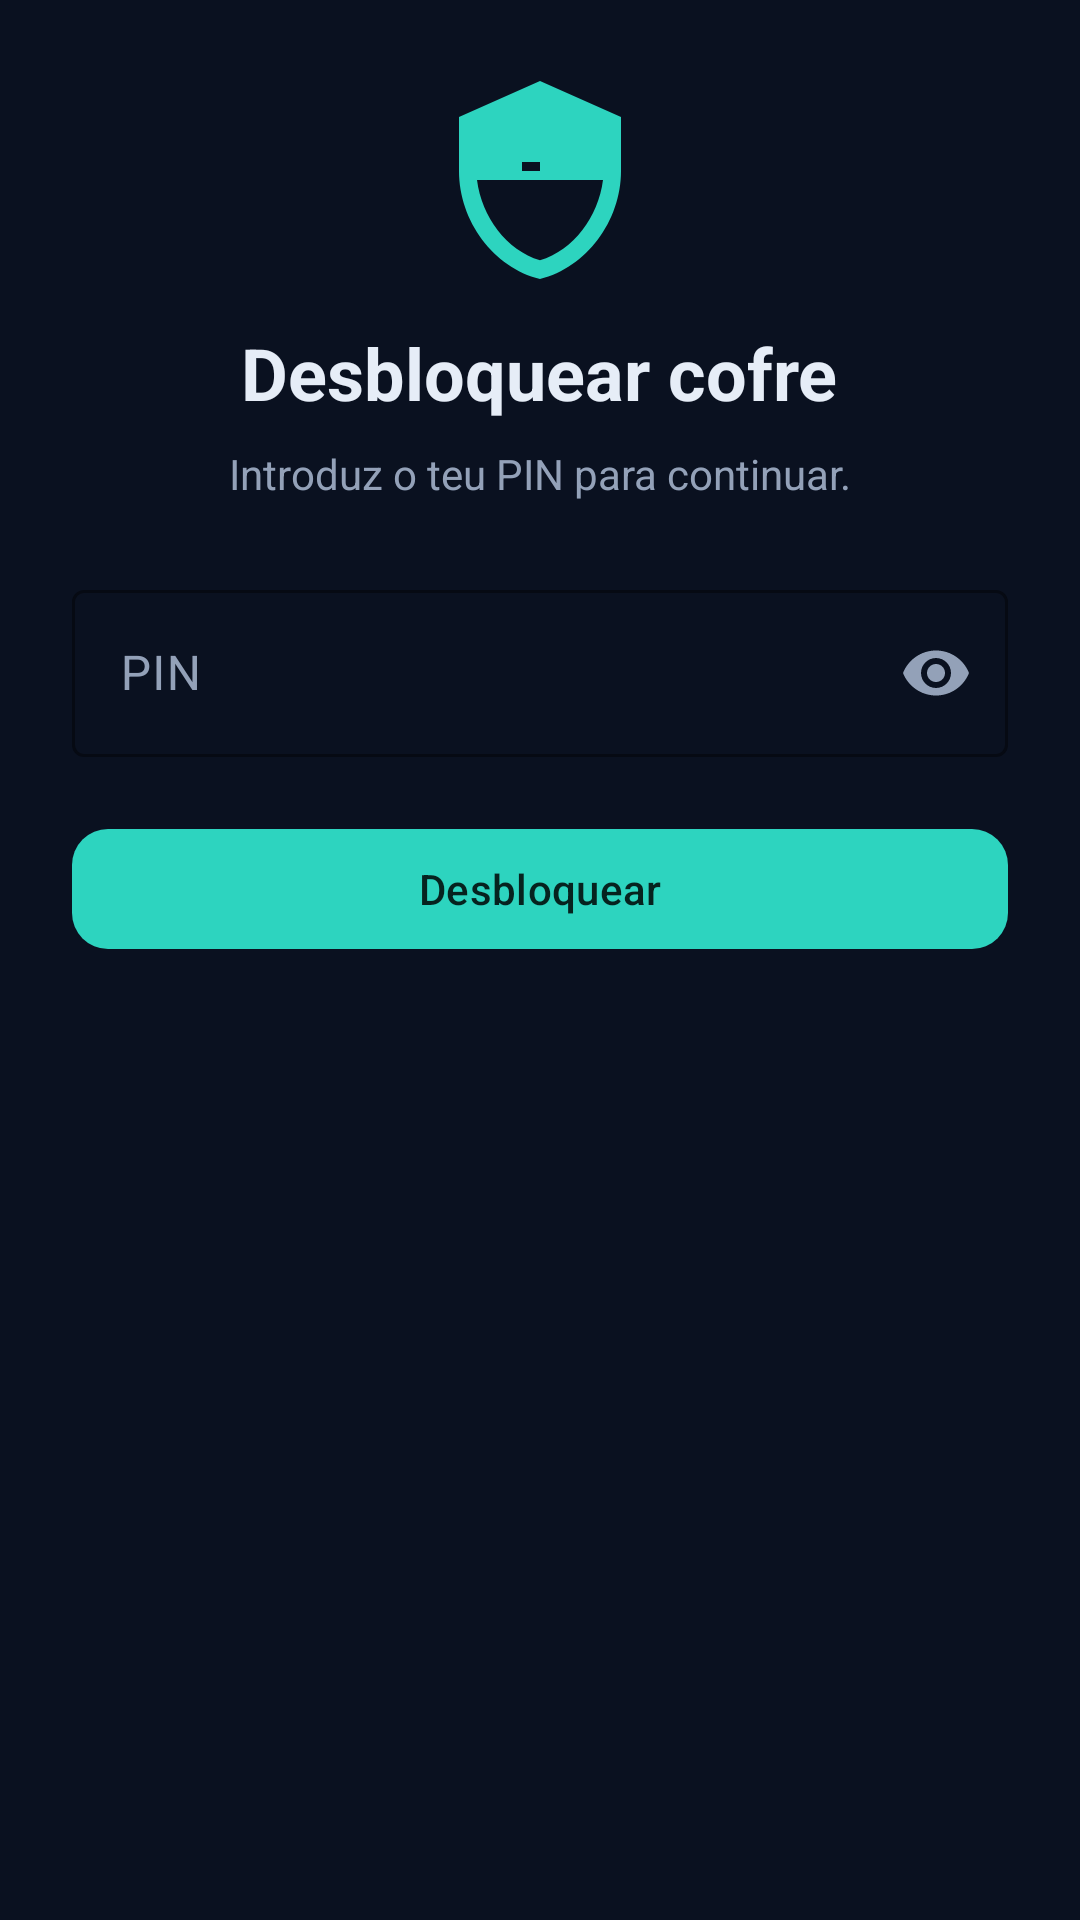

Screen size 1080x1920. Icon name, then its box in pixels as (x1, y1, x2, y2):
shield lock: (459, 81, 621, 279)
